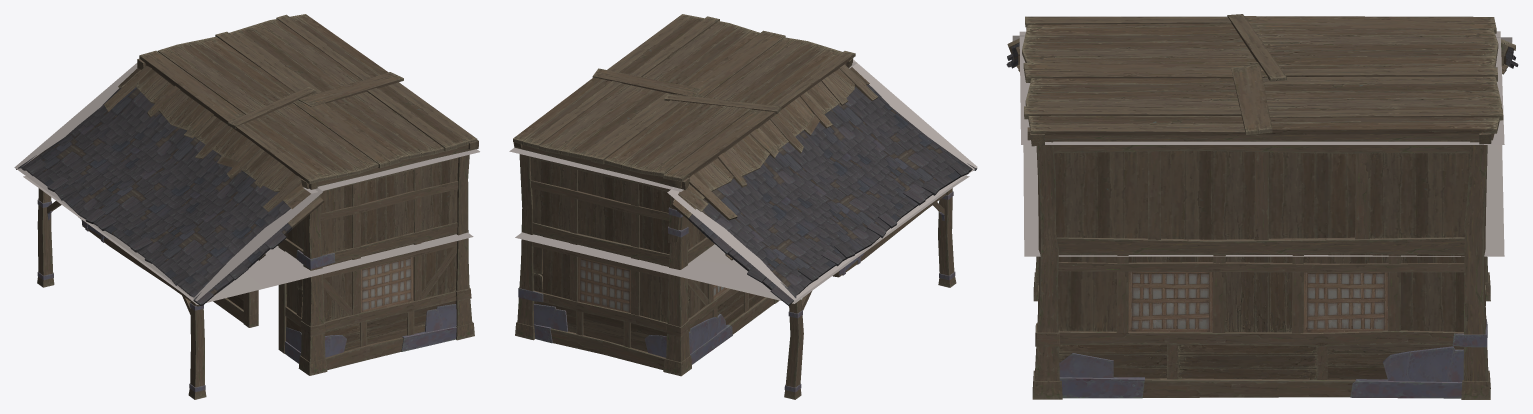
Rendered from Homeworld_Exterior_Dq_Build_House_16_Lod0.fbx.
3 views of the same model, side by side, from view 1: azimuth 30°, elevation 25°; view 2: azimuth 150°, elevation 25°; view 3: azimuth 270°, elevation 25° (orthographic). The views are drawn at different scales.
Visible parts, largest first — view 1: Area_Dq_Build_SWZ_LuXin_05_Lod0, Area_Dq_Build_SWZ_LuXin_05_Ocl; view 2: Area_Dq_Build_SWZ_LuXin_05_Lod0, Area_Dq_Build_SWZ_LuXin_05_Ocl; view 3: Area_Dq_Build_SWZ_LuXin_05_Lod0, Area_Dq_Build_SWZ_LuXin_05_Ocl.
Boxes of the visible parts, box(x1,y1,x2,y2) form: Area_Dq_Build_SWZ_LuXin_05_Lod0: box(16, 14, 478, 399); Area_Dq_Build_SWZ_LuXin_05_Ocl: box(14, 63, 479, 304); Area_Dq_Build_SWZ_LuXin_05_Lod0: box(513, 14, 977, 399); Area_Dq_Build_SWZ_LuXin_05_Ocl: box(509, 59, 977, 303); Area_Dq_Build_SWZ_LuXin_05_Lod0: box(1006, 14, 1518, 399); Area_Dq_Build_SWZ_LuXin_05_Ocl: box(1012, 31, 1512, 256).
Size of what is drawn, in the model's own units: 9.39 by 5.96 by 10.12.
